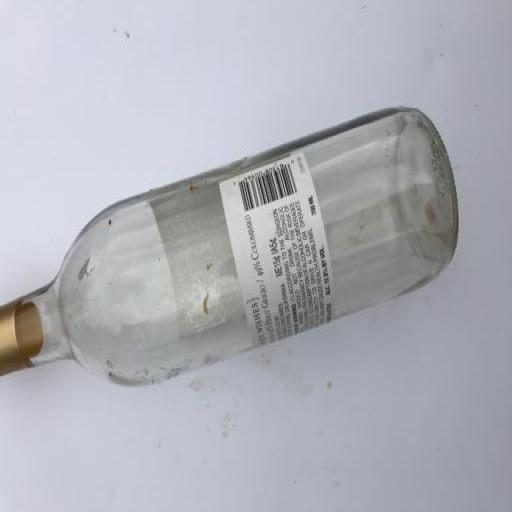glass bottle: (3, 105, 458, 381)
